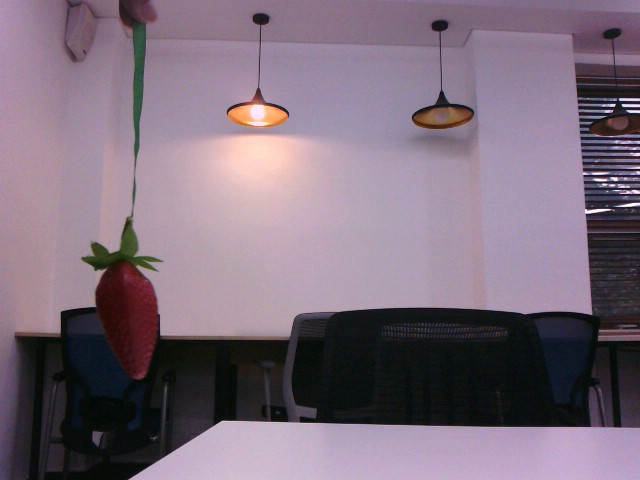strawberry: (84, 251, 164, 382)
